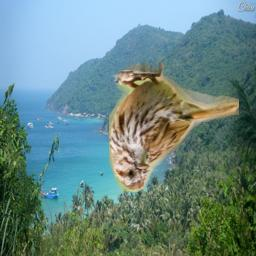Sparrow: (109, 62, 239, 192)
